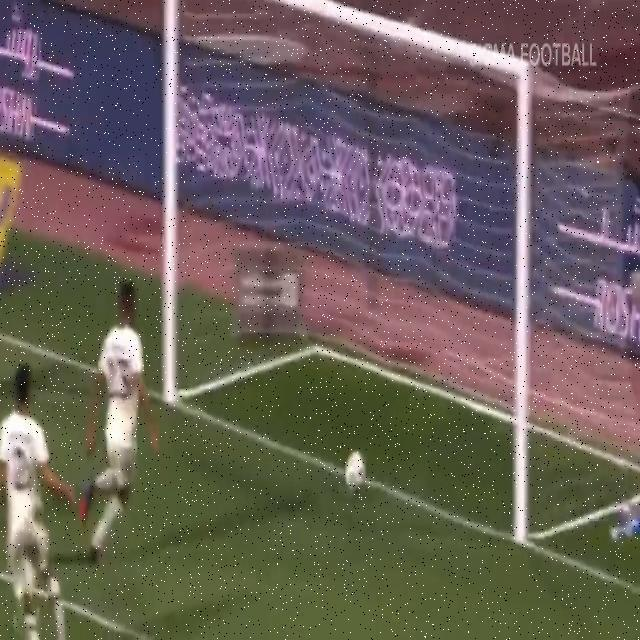ball: (335, 435, 376, 515)
player: (79, 250, 156, 579), (1, 336, 79, 640)
